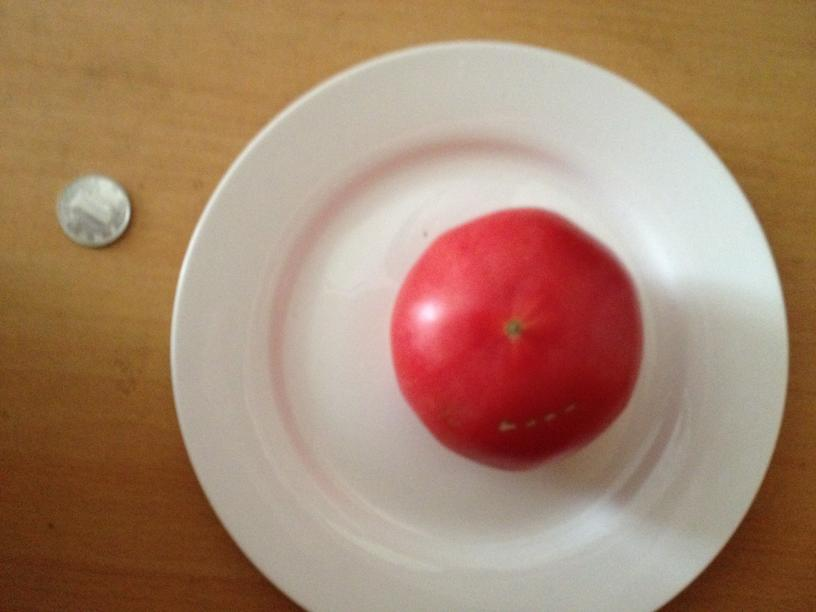coin: (51, 171, 132, 251)
tomato: (380, 206, 646, 470)
